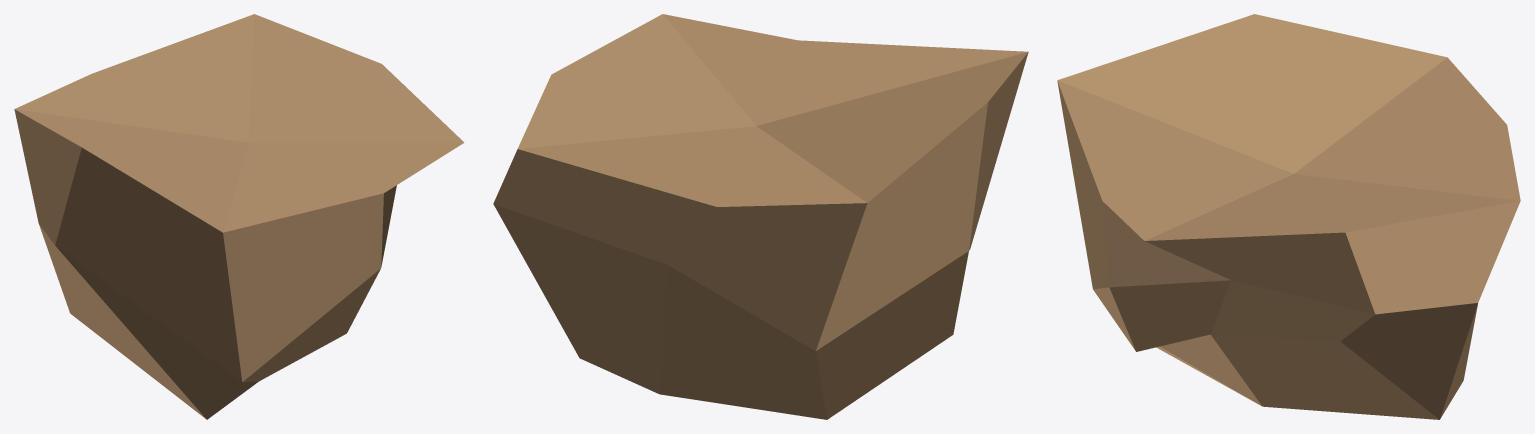
Rendered from rocks_platforms_2.fbx.
The picture shows the model from 3 angles, left to right: view 1: azimuth 30°, elevation 25°; view 2: azimuth 150°, elevation 25°; view 3: azimuth 270°, elevation 25°; orthographic projection. The views are drawn at different scales.
Visible parts, largest first — view 1: Cube.002; view 2: Cube.002; view 3: Cube.002.
Boxes of the visible parts, <box> form: Cube.002: <box>14,14,464,419</box>; Cube.002: <box>493,14,1028,419</box>; Cube.002: <box>1057,14,1520,419</box>.
Size of the model in its own units: 1800 by 1225 by 1794.
